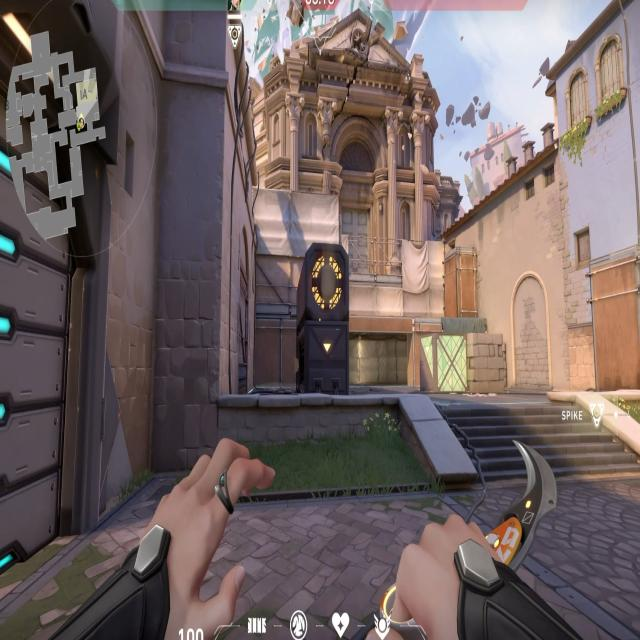A_Door: (0, 31, 109, 579)
A_Heaven_Box: (440, 240, 482, 318)
A_Heaven_Wall: (255, 169, 349, 307)
A_Hell: (349, 316, 416, 390)
A_Site_Box: (416, 324, 506, 394)
